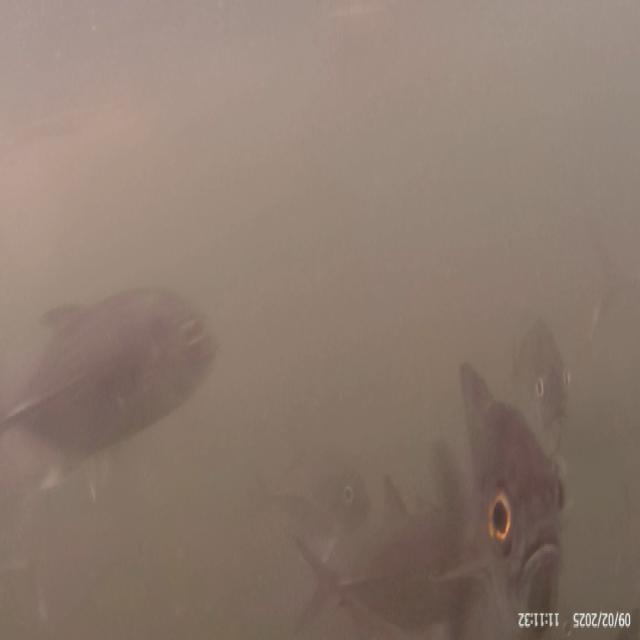ikan: (2, 233, 230, 462), (435, 370, 608, 604)
